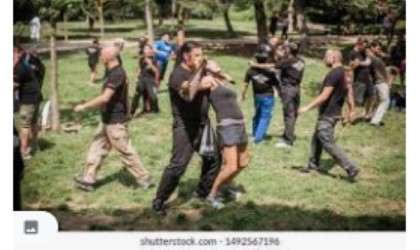baston_e: (207, 66, 227, 82)
baston_v: (228, 77, 238, 85)
